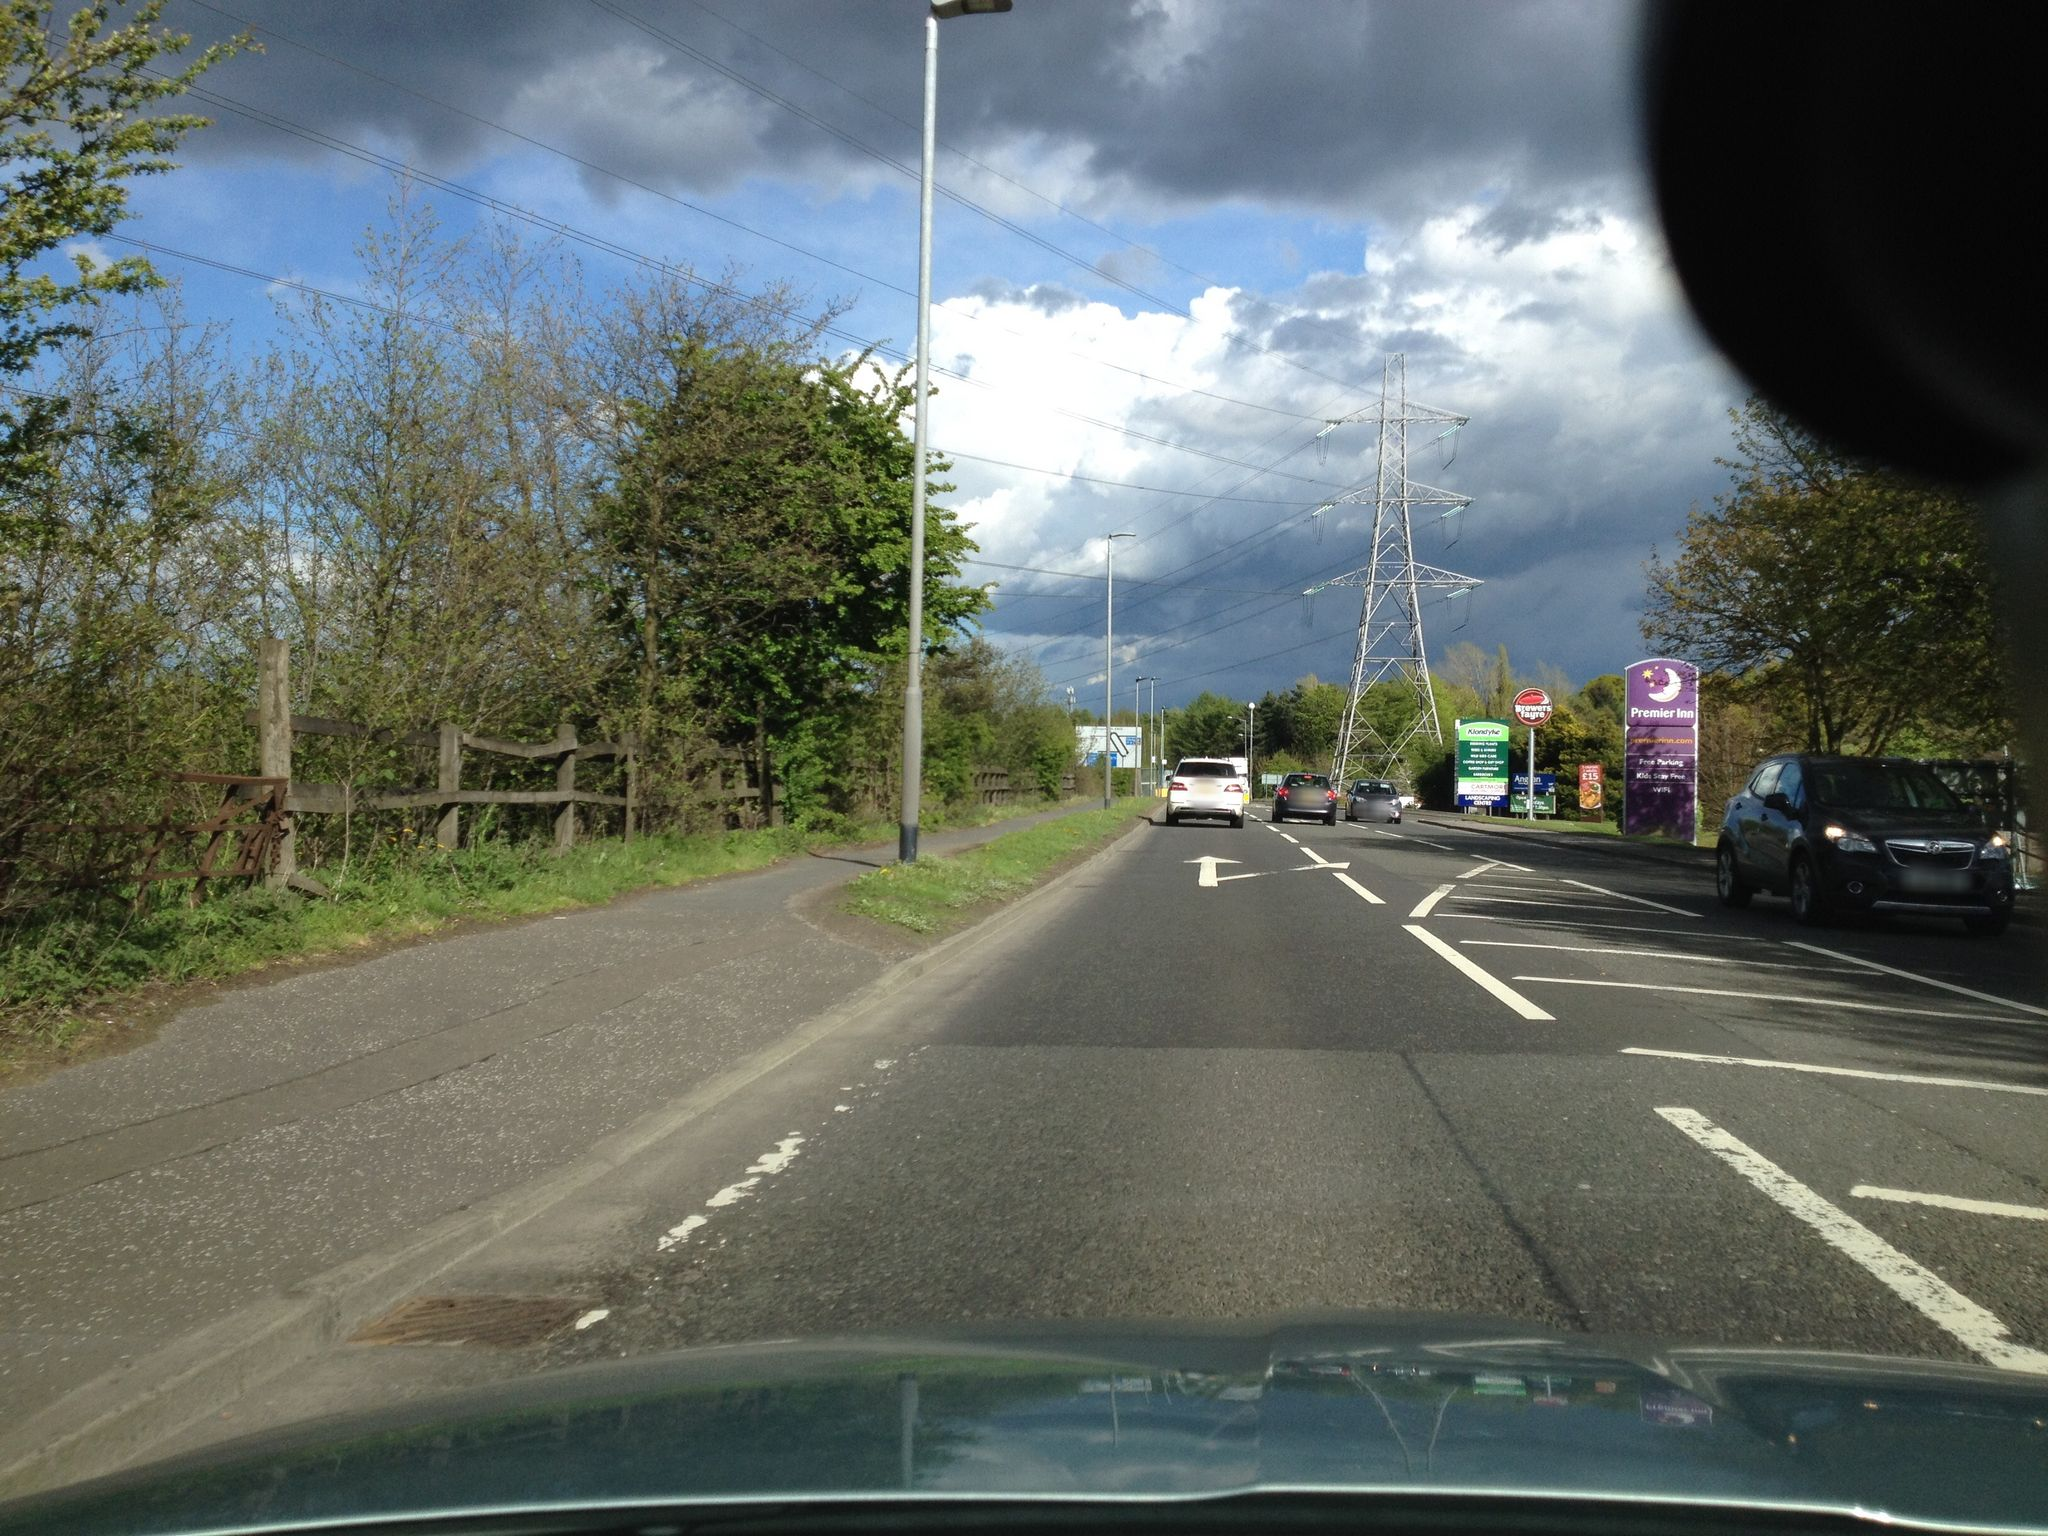car: (1716, 752, 2016, 934), (1164, 755, 1245, 828), (1271, 771, 1337, 824), (1343, 778, 1403, 823)
